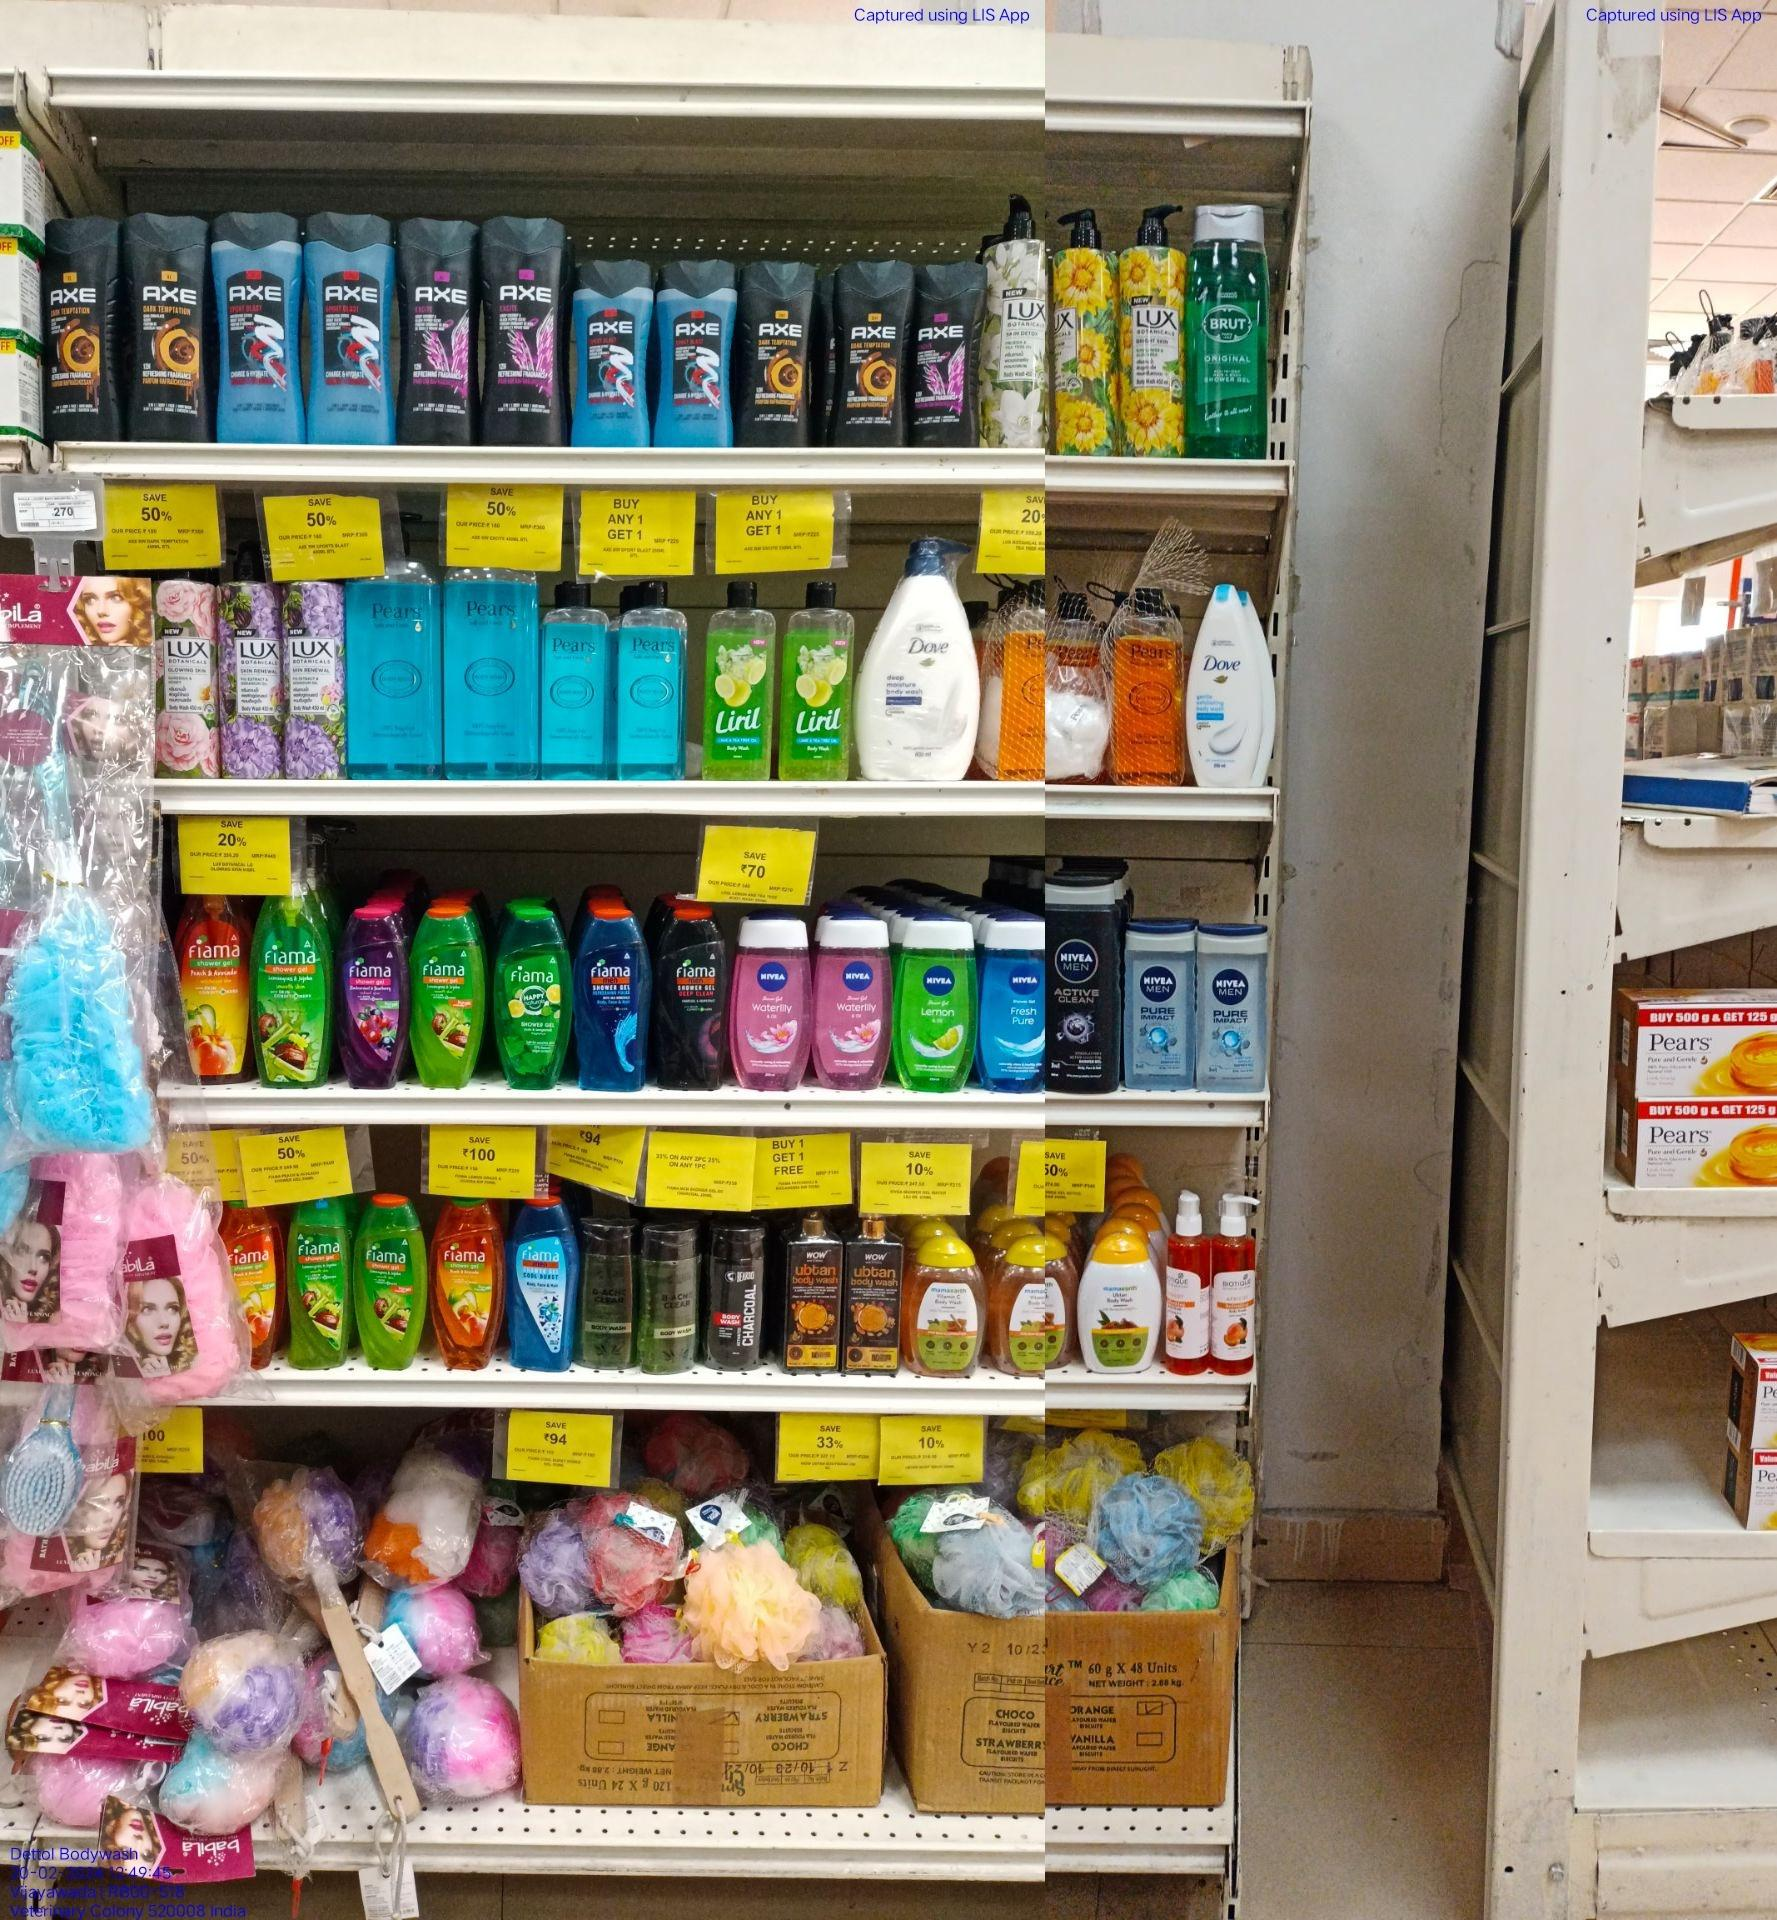Dove_Gentle_Exfoliating_Body_Wash_250ML: (1185, 580, 1265, 783)
Fiama_Shower_Gel_Lemongrass_and_Jojoba_250ML: (412, 891, 485, 1089), (356, 1197, 427, 1370), (433, 1189, 500, 1370), (289, 1196, 351, 1366)
Liril_Lime_and_Tea_Tree_Oil_Body_Wash_250ML: (776, 579, 850, 779), (701, 580, 773, 781)
Nivea_Shower_Gel_Lemon_and_Oil_250ML: (895, 920, 972, 1092)
Nivea_Shower_Gel_Waterlily_and_Oil_250ML: (731, 903, 812, 1090), (812, 920, 890, 1094)
Pears_Pure_Glycerin_and_Mint_Extracts_Body_Wash_250ML: (539, 582, 612, 779), (619, 579, 686, 778)
